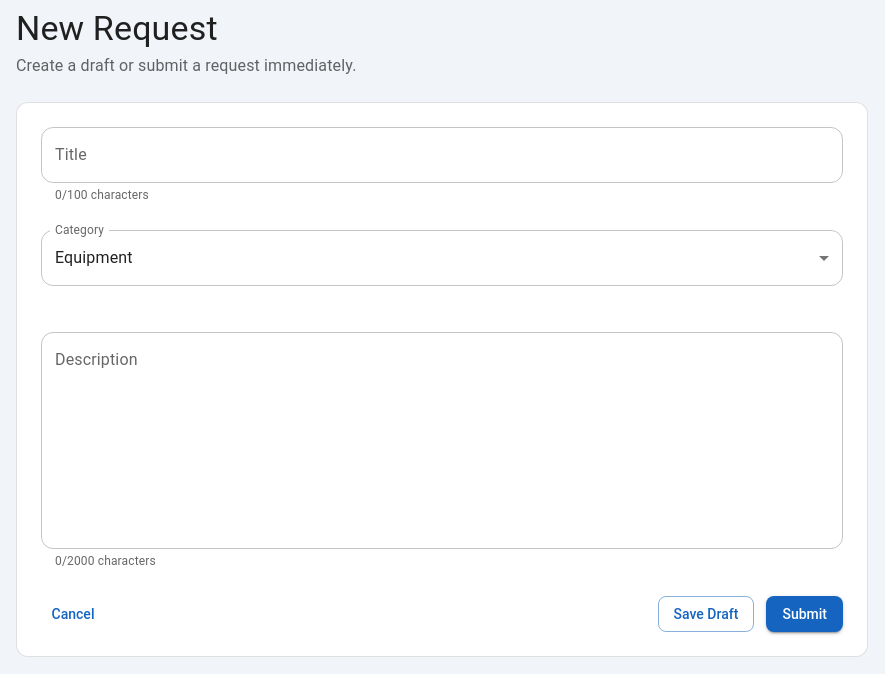
Test: CreateRequestPage › validates required/min-length fields
The width and height of the screenshot is (885, 674).
What coordinates should you click on to do the following:
click the button "Submit"
I would click on:
 (805, 614)
Its box is top-left (766, 596), bottom-right (843, 632).
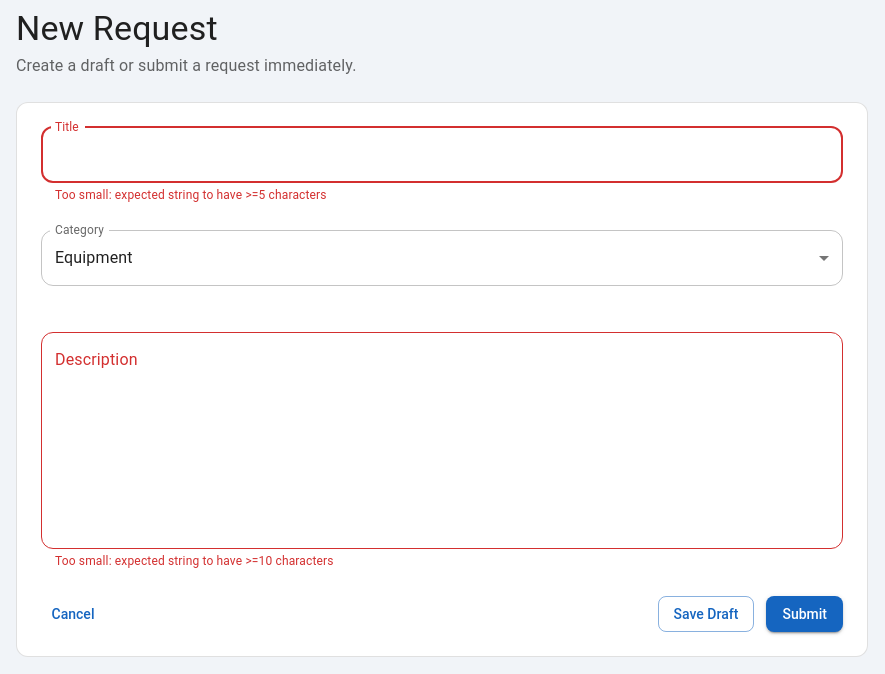
Result: the text "Too small: expected string to have >=5 characters" is shown at top-left (55, 188), bottom-right (327, 202)
